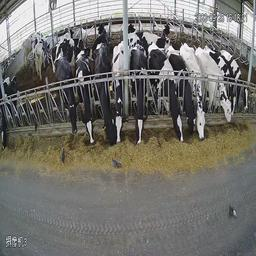cow: (148, 41, 182, 142), (205, 41, 236, 118), (112, 40, 130, 145), (54, 57, 78, 132), (75, 57, 94, 148), (96, 41, 112, 146), (131, 41, 147, 145), (194, 39, 210, 140), (182, 43, 196, 139), (235, 49, 253, 113), (34, 33, 51, 79)
